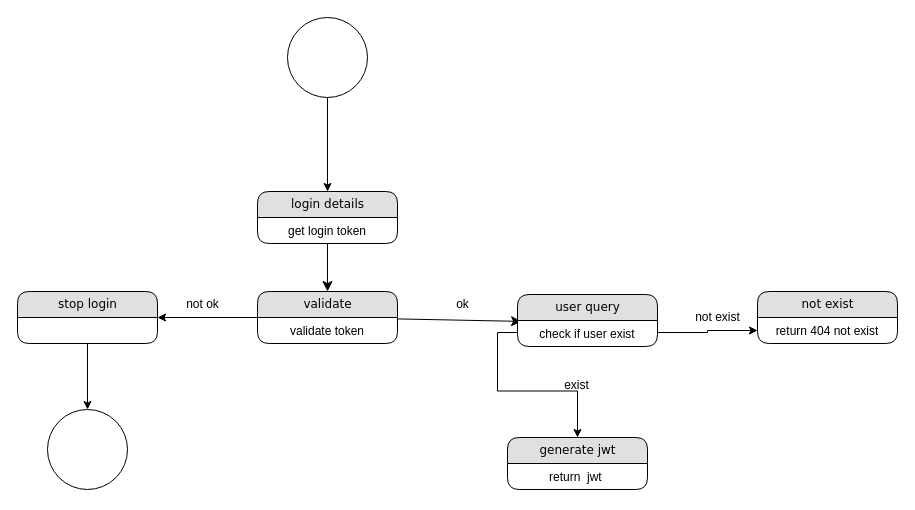
This 915x510 diagram has some shape labels left out. Here are the shapes that lost their labels. From the top down, the centre of each, then its label:
At pixel 327 57: "login".
At pixel 87 449: "end".
